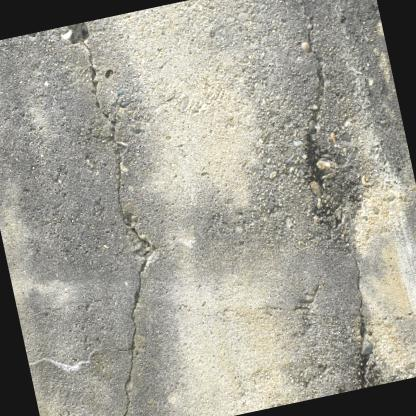crack: (77, 22, 160, 416)
